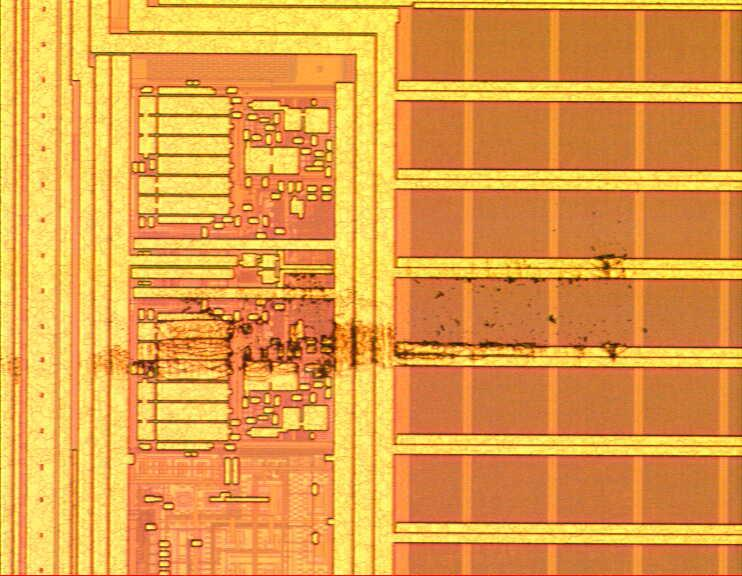SCRATCH: (1, 234, 664, 382)
